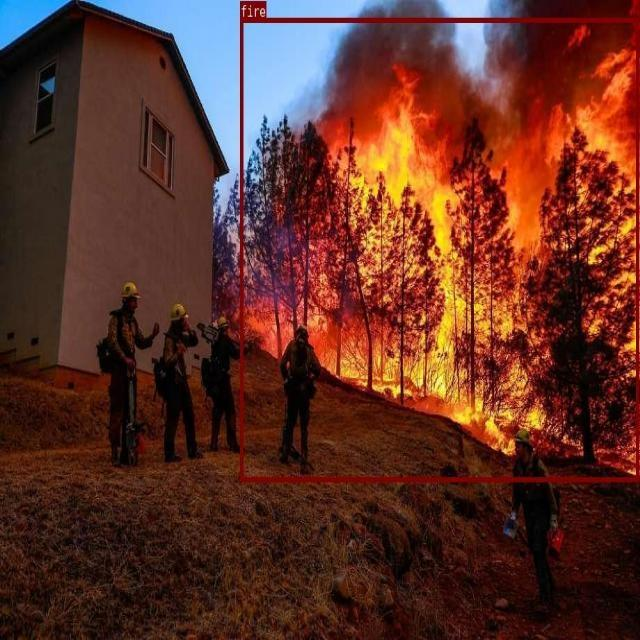fire: (240, 17, 638, 481)
